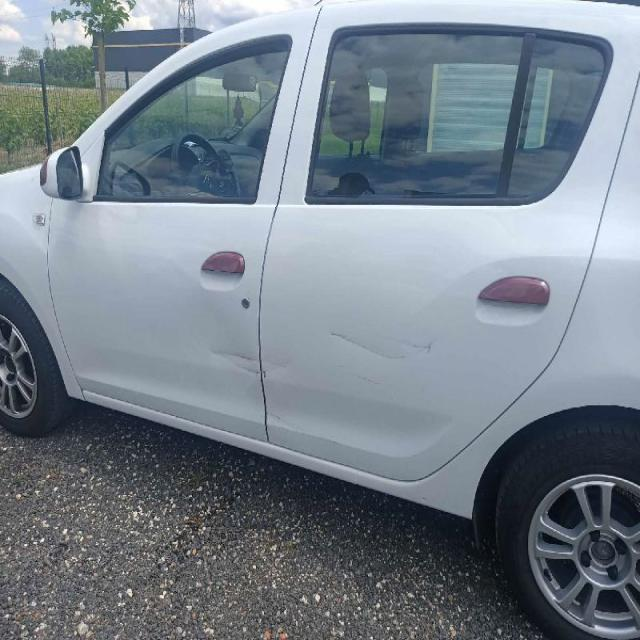porte-avant: (45, 7, 323, 445)
